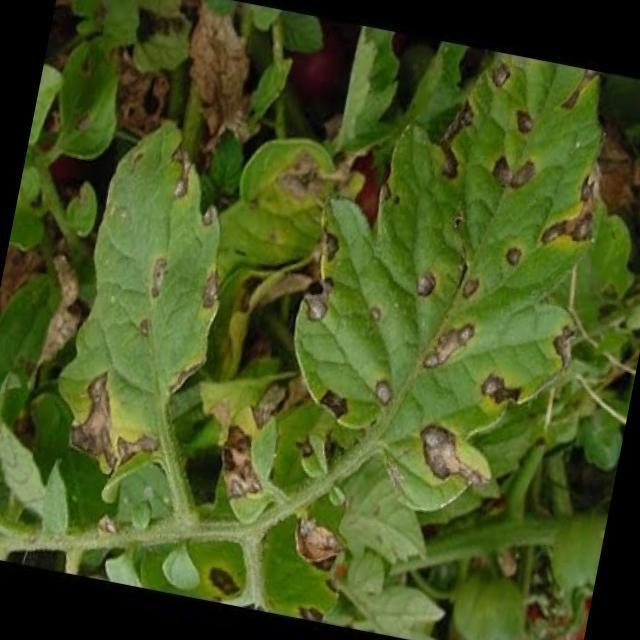Septoria: (294, 31, 610, 432), (120, 154, 238, 356), (400, 418, 498, 499)
